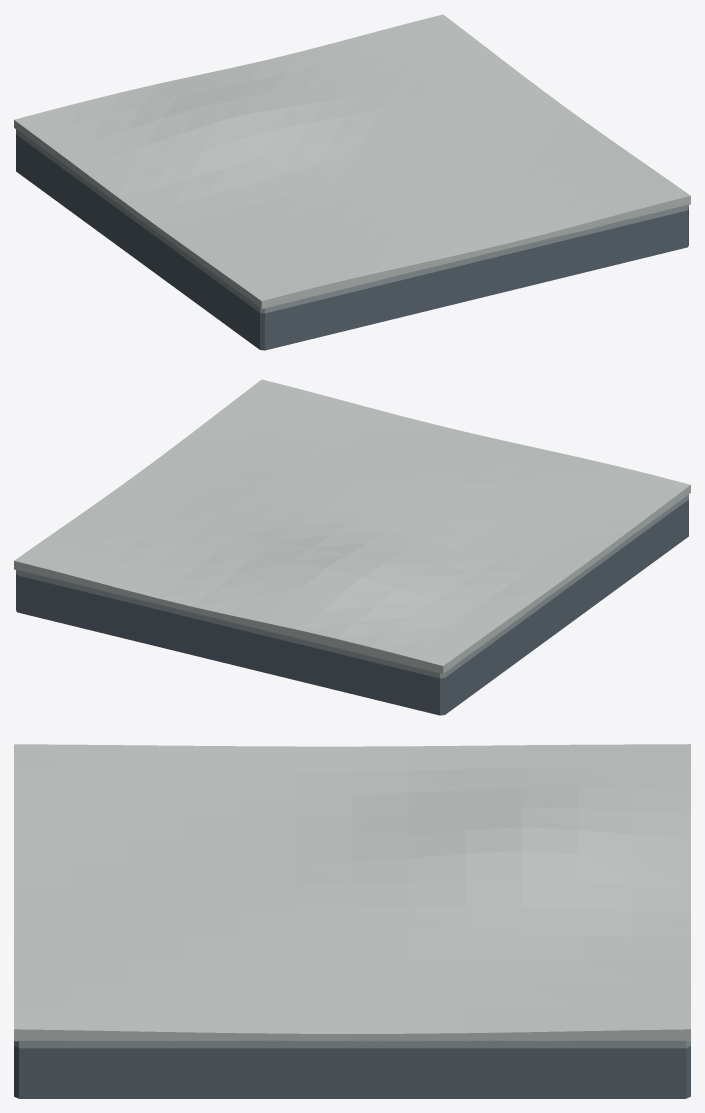
3 renders of one model, top to bottom at view 1: azimuth 30°, elevation 25°; view 2: azimuth 150°, elevation 25°; view 3: azimuth 270°, elevation 25°, orthographic. The views are drawn at different scales.
Visible parts, largest first — view 1: B02_雪地宽脊; view 2: B02_雪地宽脊; view 3: B02_雪地宽脊.
Boxes of the visible parts, left/top/right/bottom form: B02_雪地宽脊: left=14, top=14, right=690, bottom=350; B02_雪地宽脊: left=14, top=379, right=690, bottom=715; B02_雪地宽脊: left=14, top=744, right=690, bottom=1098.
Bounding box in the file's own units: 8 × 1.05 × 8.
